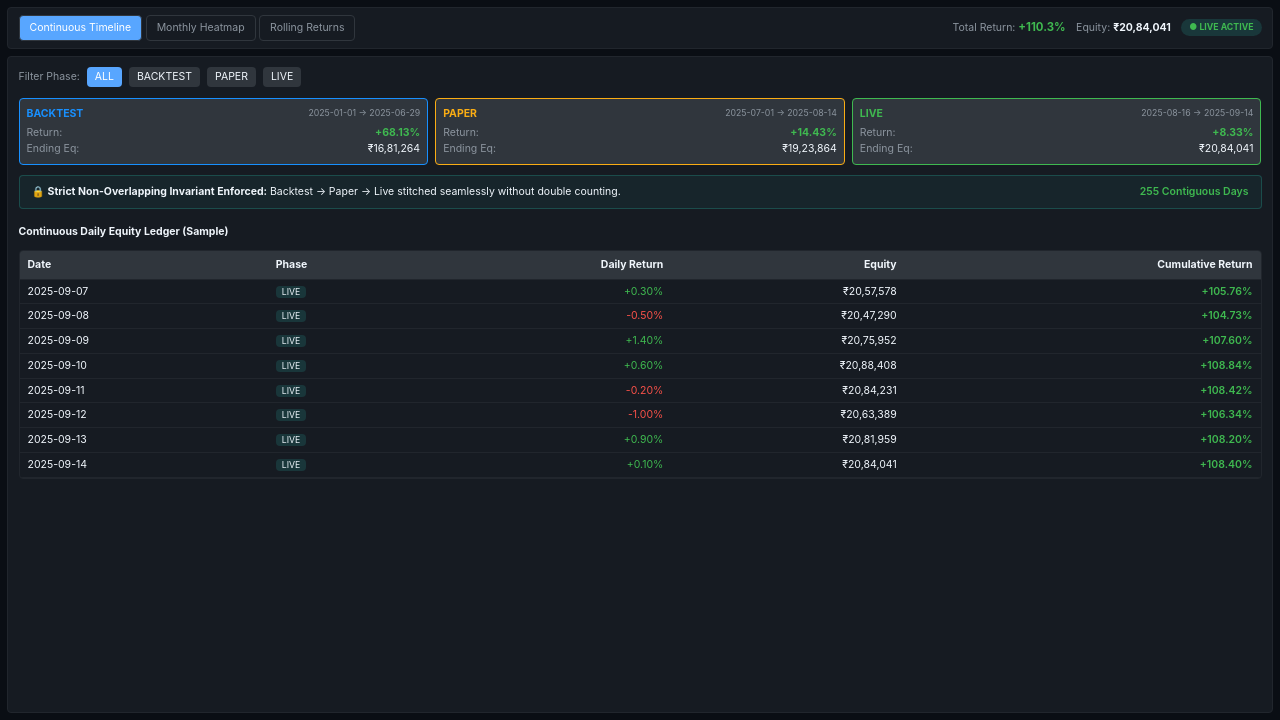
Test case: ReturnsTimelineWidget Component › switches to Monthly Heatmap tab and renders monthly returns matrix
Click the button with test id "tab-monthly" at (201, 28), box [146, 15, 256, 41]
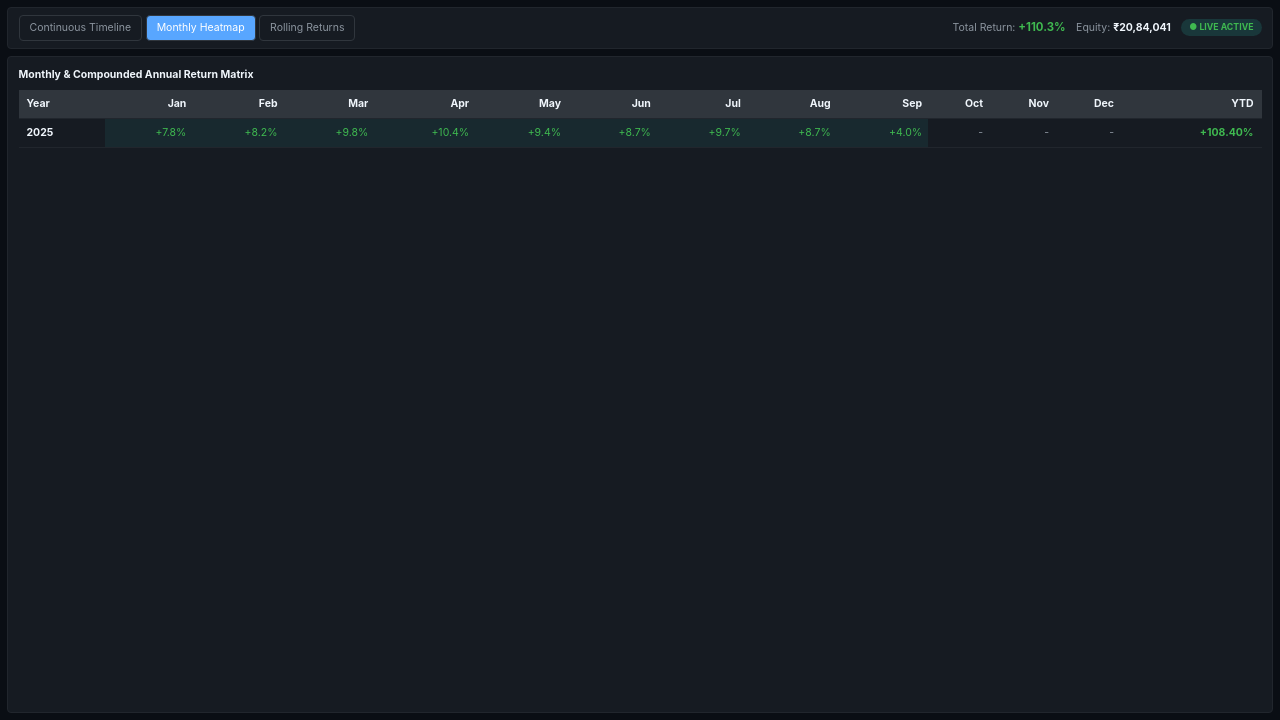
Expected: the text "Monthly & Compounded Annual Return Matrix" is shown, [18, 68, 254, 81]
Expected: the column heading "YTD" is shown, [1120, 90, 1262, 118]
Expected: the column heading "Jan" is shown, [105, 90, 192, 118]
